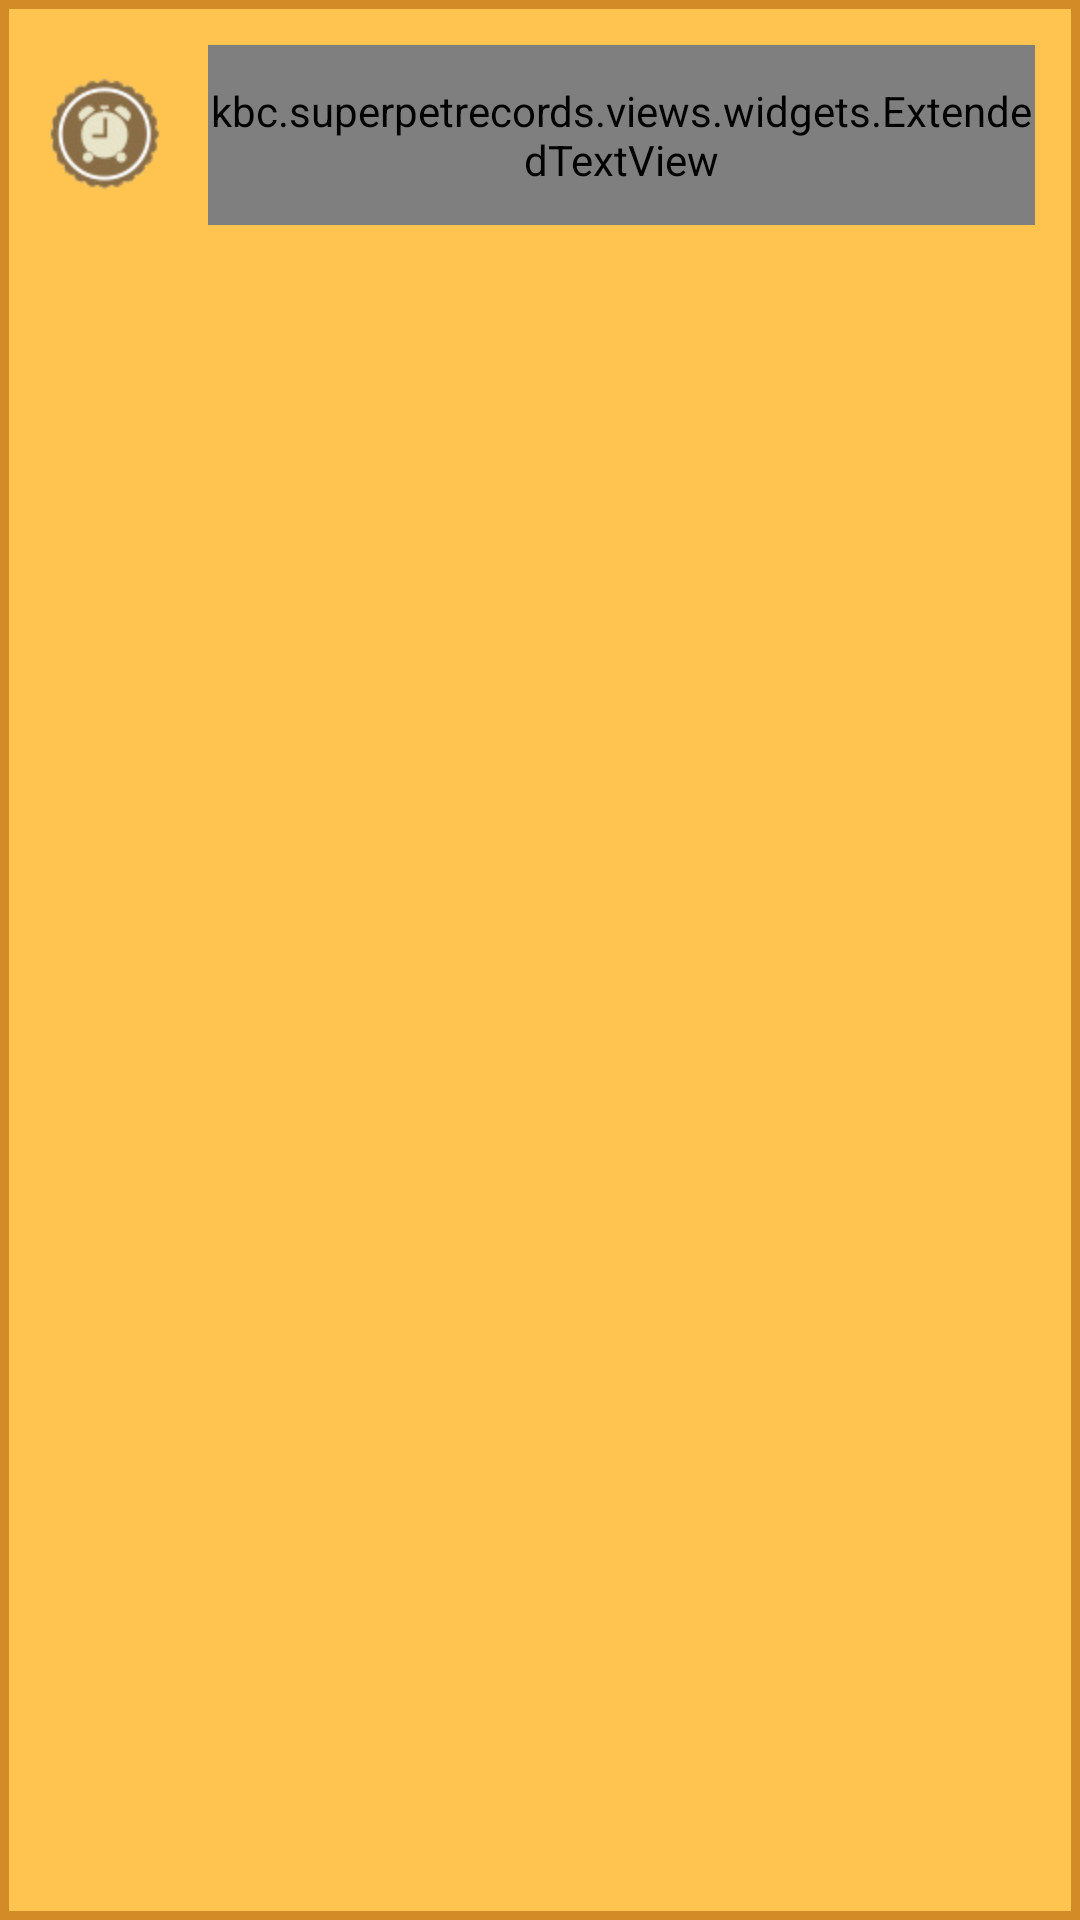

Icon click points for this 1080w x 1920h phone screenshot, format [x,y]:
alarmclock badge: [104,134]
